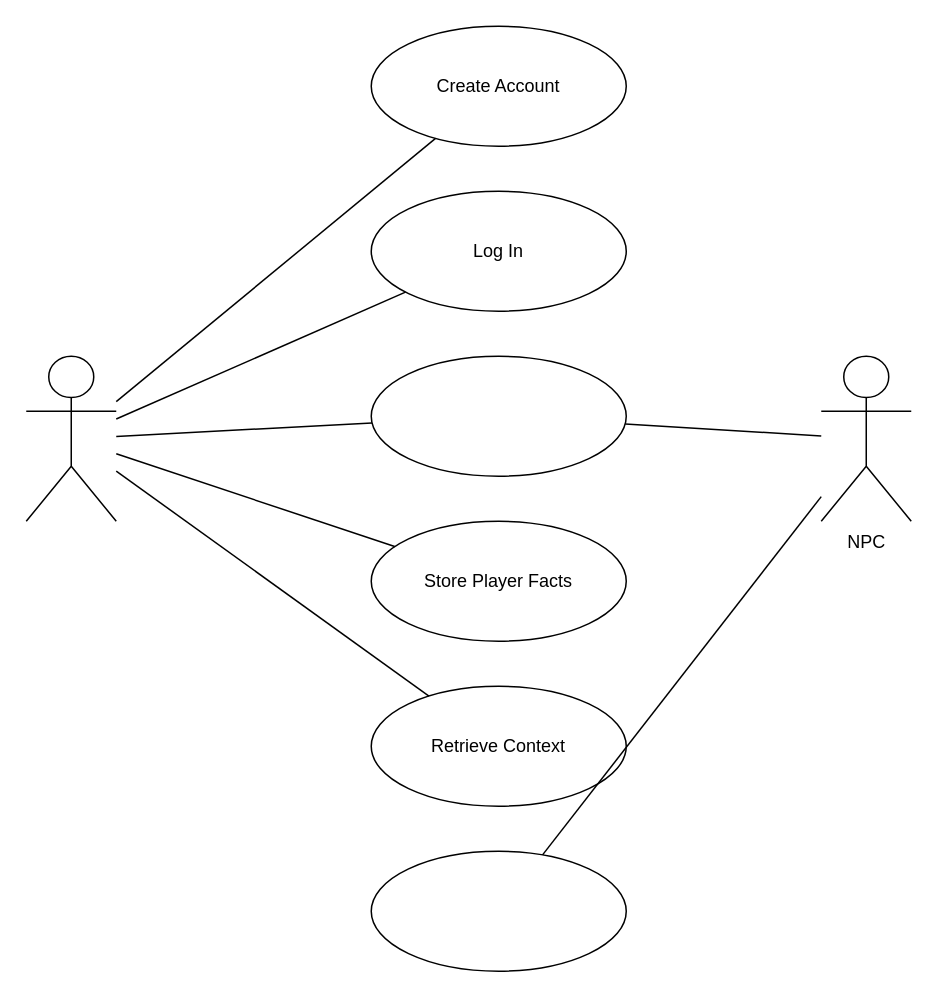
Some shapes in this 938 by 998 pixel diagram are drawn without their labels. The shapes that lost their labels are listed below. From the top down, each one's centre as x and y in pixels, then its label:
At point (498, 415): "Interact with NPC".
At point (70, 438): "Player".
At point (498, 910): "Generate NPC Response".
